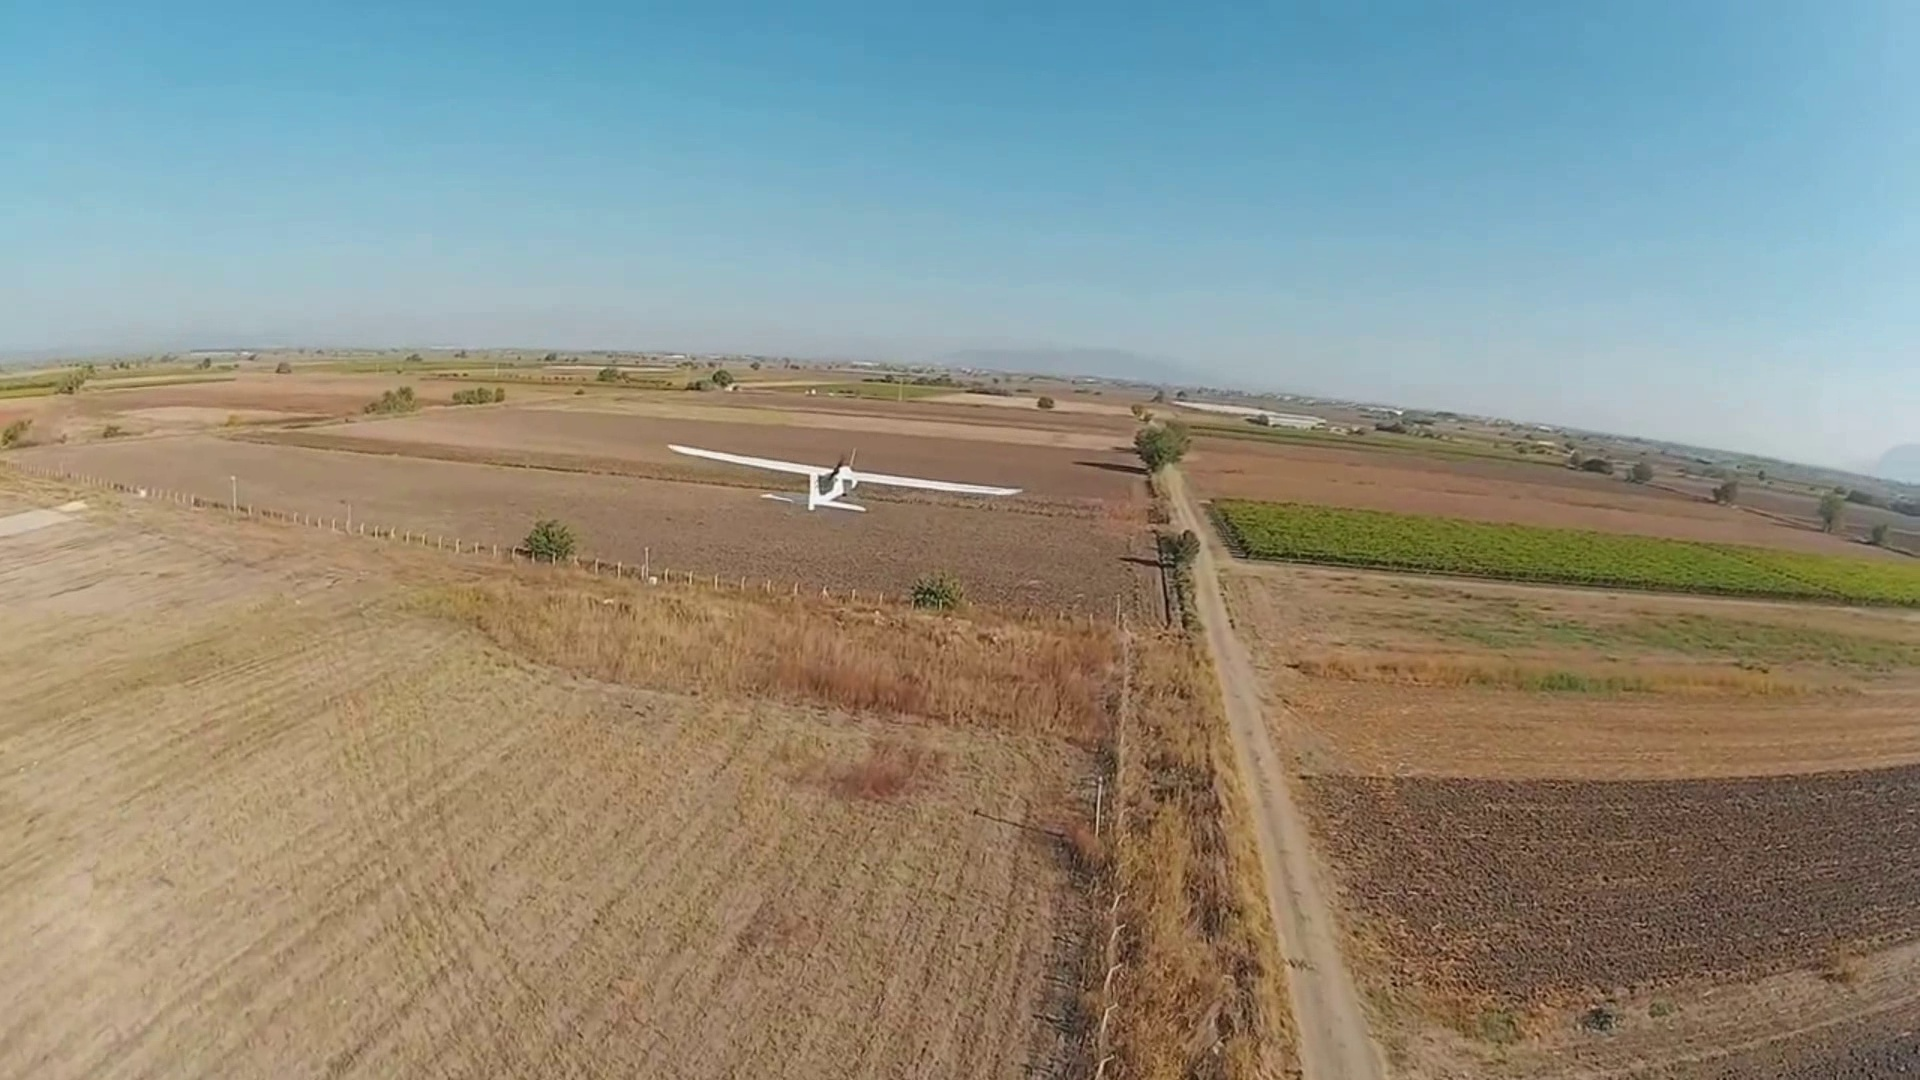airplane: (665, 435, 1025, 516)
